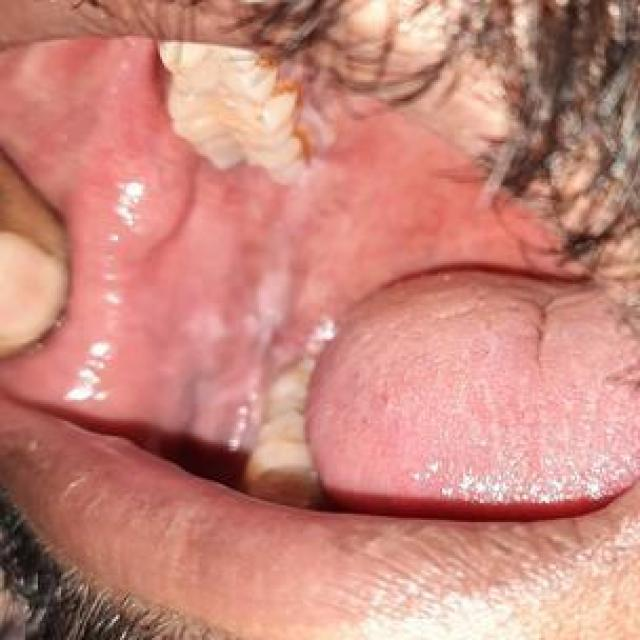leukoplakia-detection: (173, 227, 317, 451)
processing_area: (4, 42, 638, 499)
